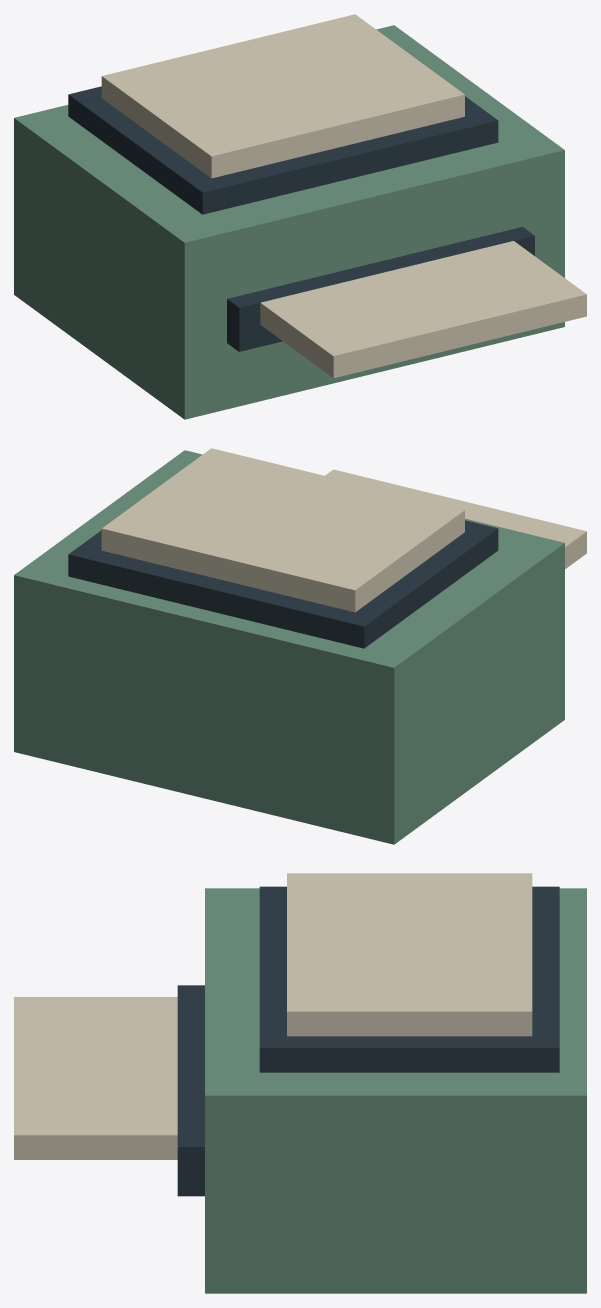
The model's file is finance-10.glb.
3 views of the same model, one above another, from view 1: azimuth 30°, elevation 25°; view 2: azimuth 150°, elevation 25°; view 3: azimuth 270°, elevation 25° (orthographic). The views are drawn at different scales.
Visible parts, largest first — view 1: Receipt printer; view 2: Receipt printer; view 3: Receipt printer.
Boxes of the visible parts, x1,y1,x2,y2 form: Receipt printer: [14, 14, 586, 419]; Receipt printer: [14, 448, 586, 844]; Receipt printer: [14, 873, 586, 1293].
Size of the model in its own units: 1.44 by 0.8 by 1.68.
